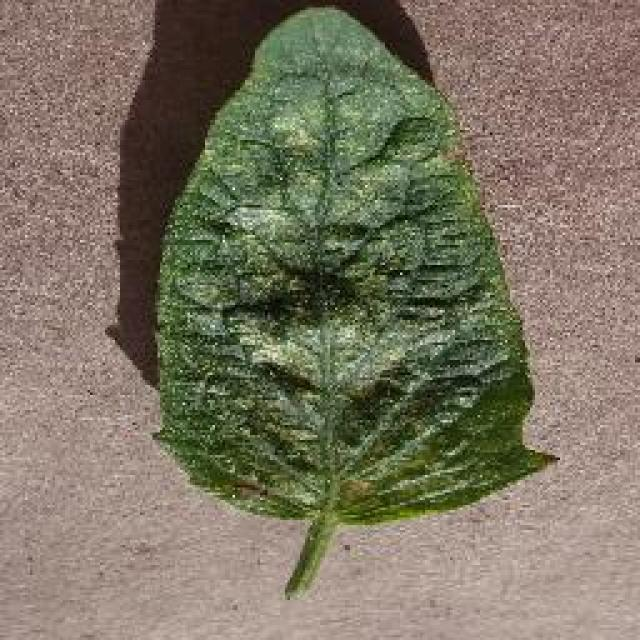Tomato___Spider_mites Two-spotted_spider_mite: (158, 10, 548, 598)
